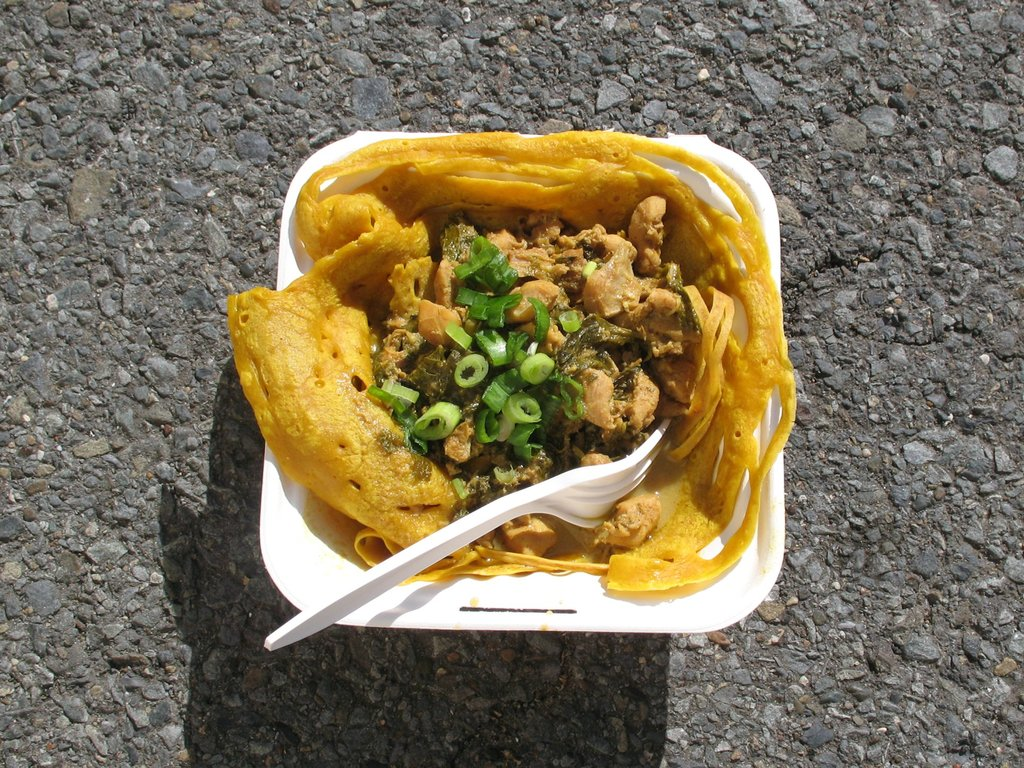taco: (225, 102, 847, 639)
